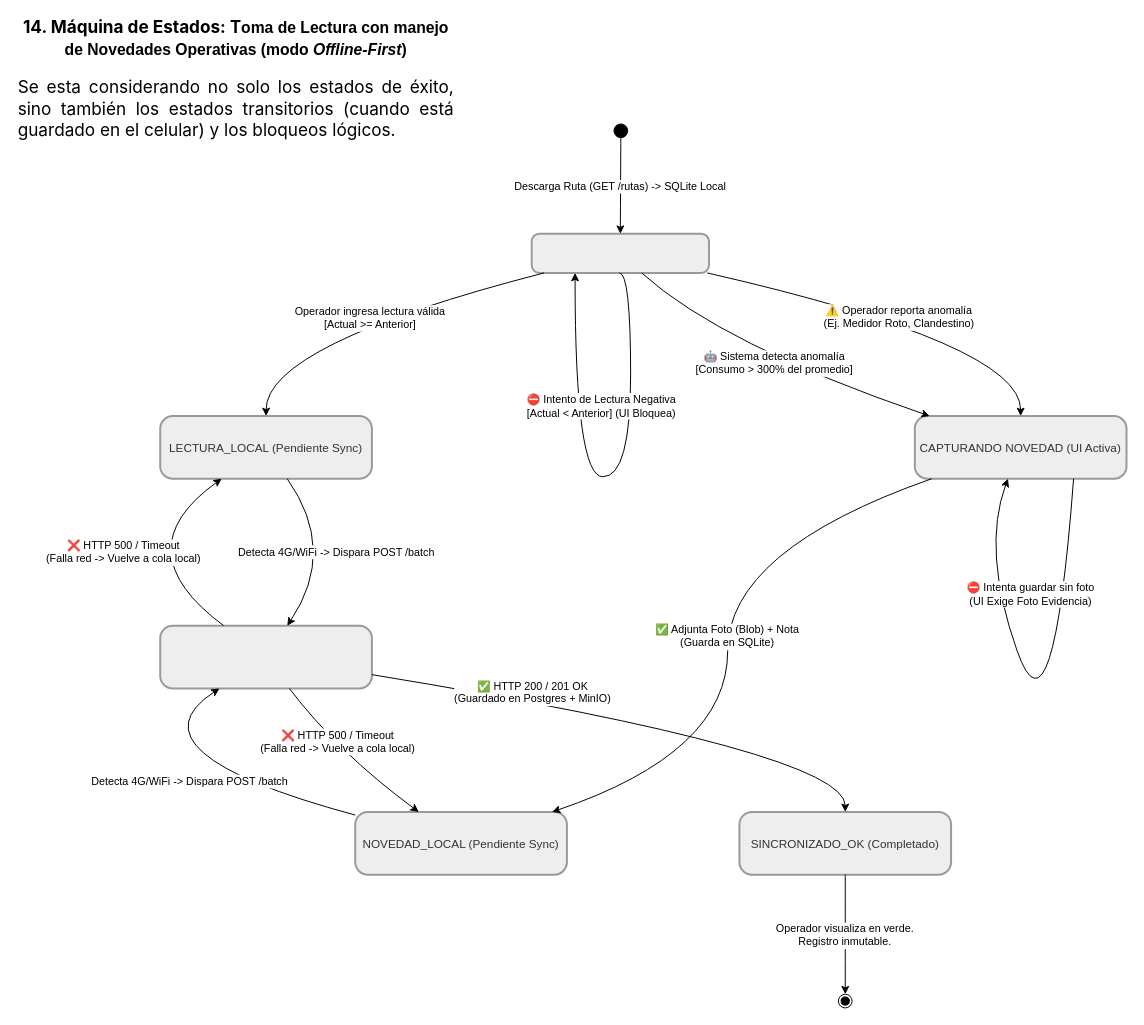
This 1144x1025 diagram has some shape labels left out. Here are the shapes that lost their labels. From the top down, the centre of each, then its label:
the point at 620,252: PENDIENTE (En Blanco)
the point at 265,656: EN_TRANSITO (Sincronizando...)
